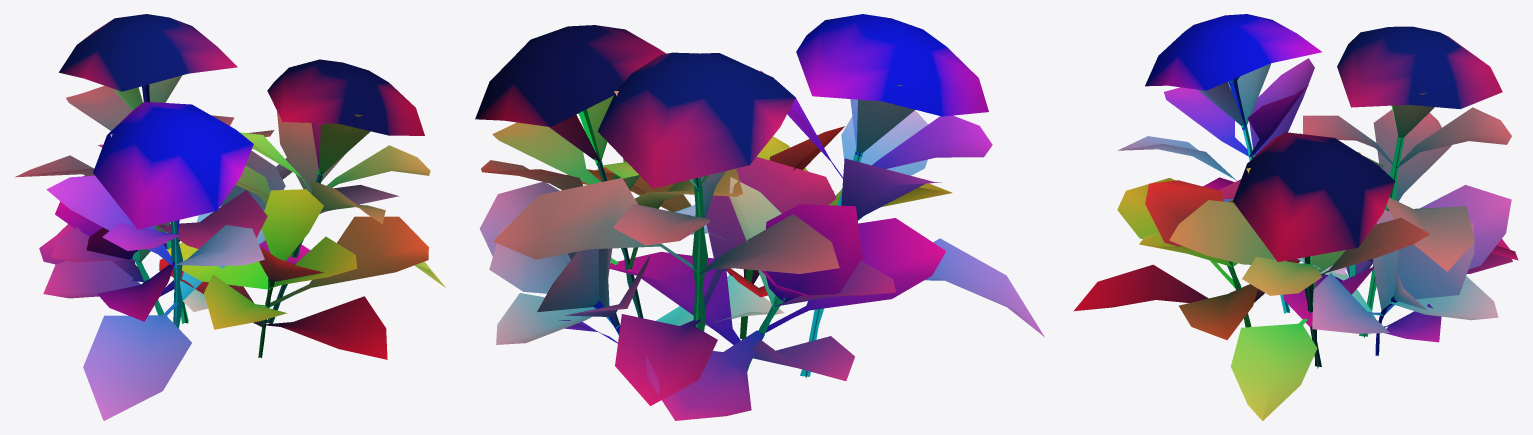
The model's file is Bigleaf_Hydrangea_vgztealha_Mid_vgztealha_VarG_LOD2.fbx.
3 views of the same model, side by side, from view 1: azimuth 30°, elevation 25°; view 2: azimuth 150°, elevation 25°; view 3: azimuth 270°, elevation 25° (orthographic). The views are drawn at different scales.
Parts seen in each view (by area): view 1: _3ywn_VarG_LOD4; view 2: _3ywn_VarG_LOD4; view 3: _3ywn_VarG_LOD4.
Part boxes in pixels (left/top/right/bottom): _3ywn_VarG_LOD4: left=15, top=14, right=445, bottom=420; _3ywn_VarG_LOD4: left=475, top=14, right=1044, bottom=420; _3ywn_VarG_LOD4: left=1073, top=14, right=1518, bottom=420.
Size of the model in its own units: 40.66 by 28.76 by 39.45.
